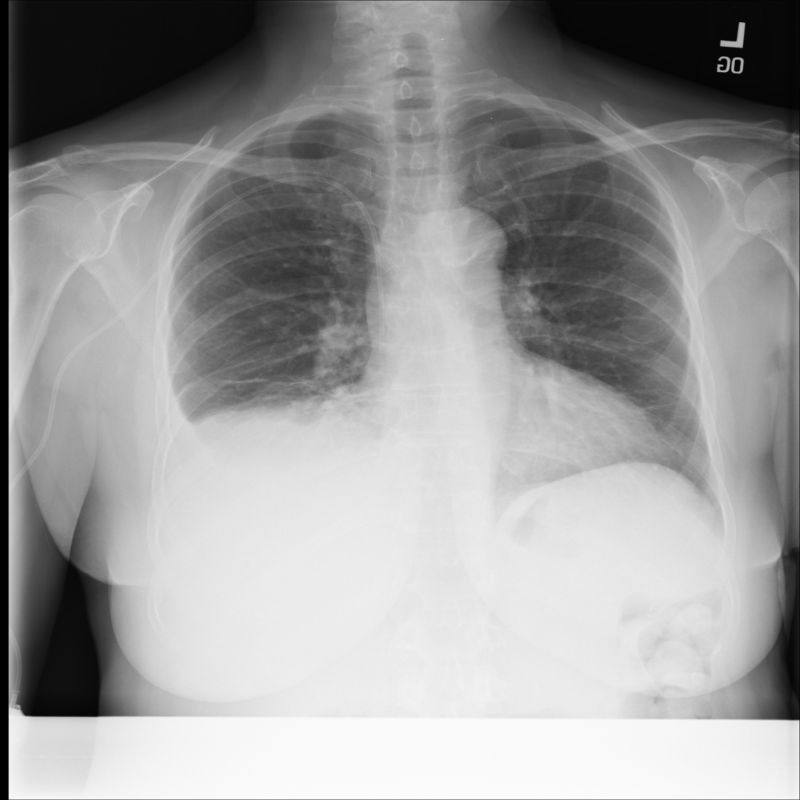PLEURAL EFFUSION: (154, 376, 276, 516)
